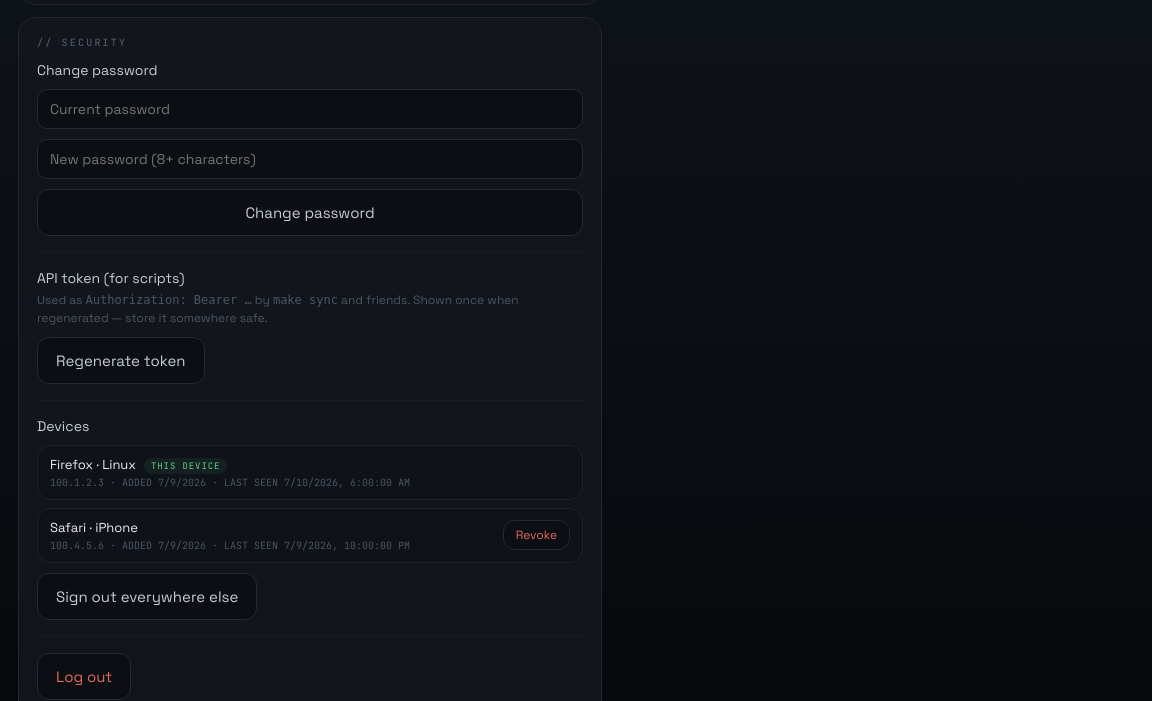
Test case: SettingsPage › regenerates the API token and shows it once
(page scrolled)
Click the button "Regenerate token". click: (121, 360)
box: 37,337 -> 204,384
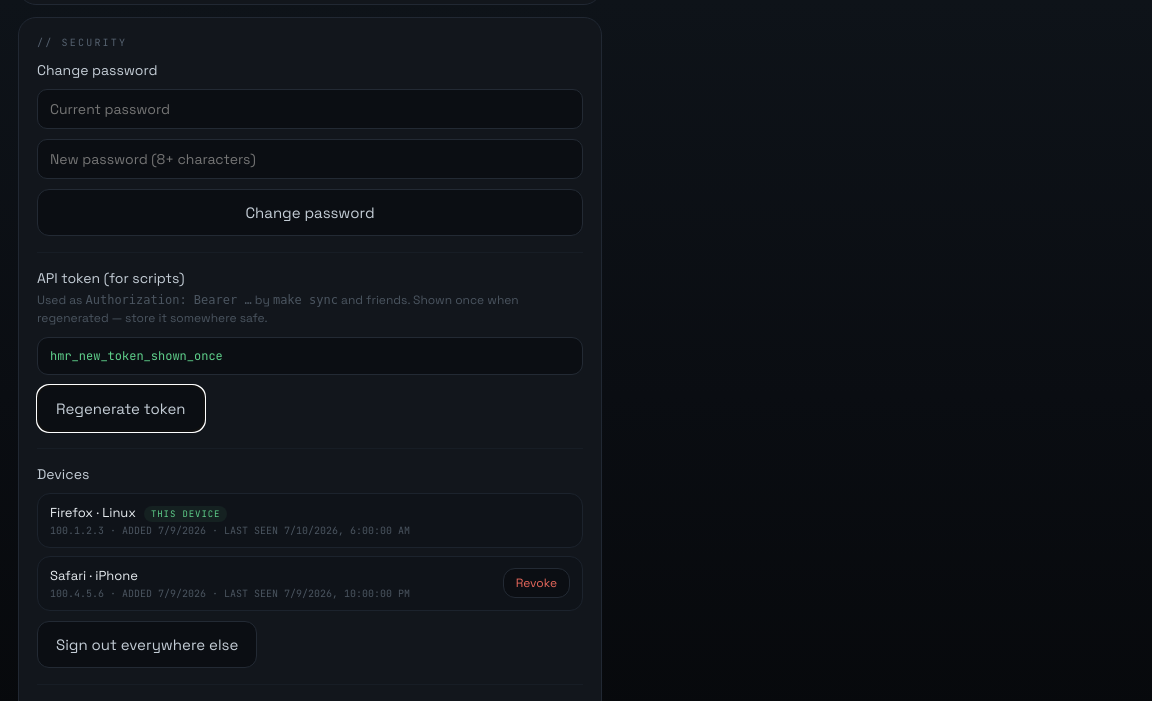
Expected: the text "hmr_new_token_shown_once" is shown, 37,337 -> 583,375
